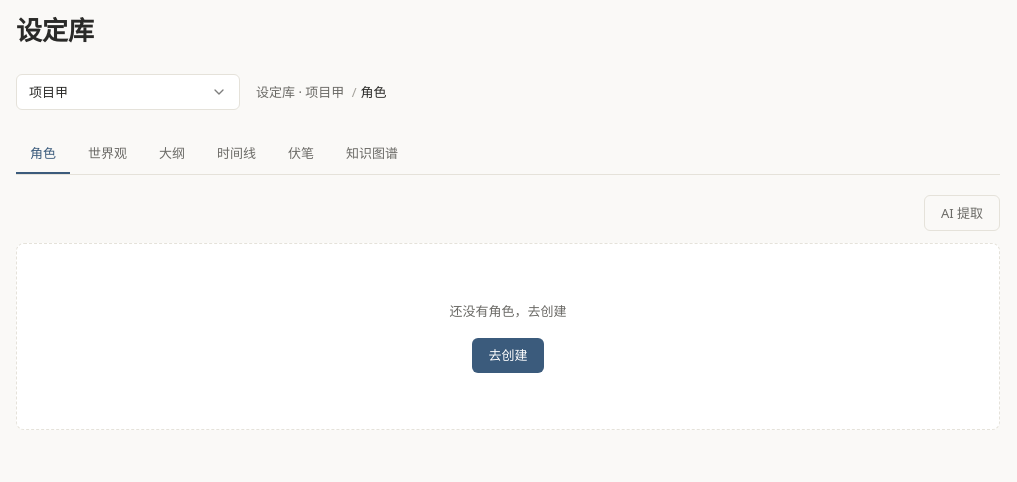
Test: 地图工作台修复契约（#973 快照刷新 / #978 删除钮重叠 / #979 pin 标签与点击） › K1【R】外部建图后点「地图视图」进工作台应见新图（进工作台重拉 maps，而非挂载时空快照）
What coordinates should you click on to do the following:
click the tab "世界观"
I would click on:
 (108, 154)
Its box is [74, 134, 141, 174].
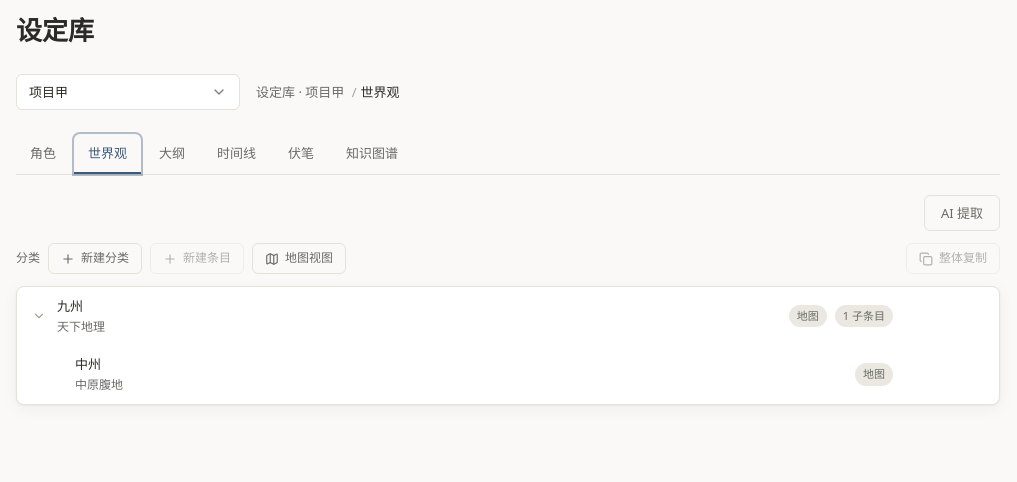
Result: the element with test id "library-list" is shown at [16, 286, 1000, 405]
What coordinates should you click on to do the following:
click the button with test id "map-view-entry"
I would click on:
 (299, 259)
Its box is [252, 243, 346, 274].
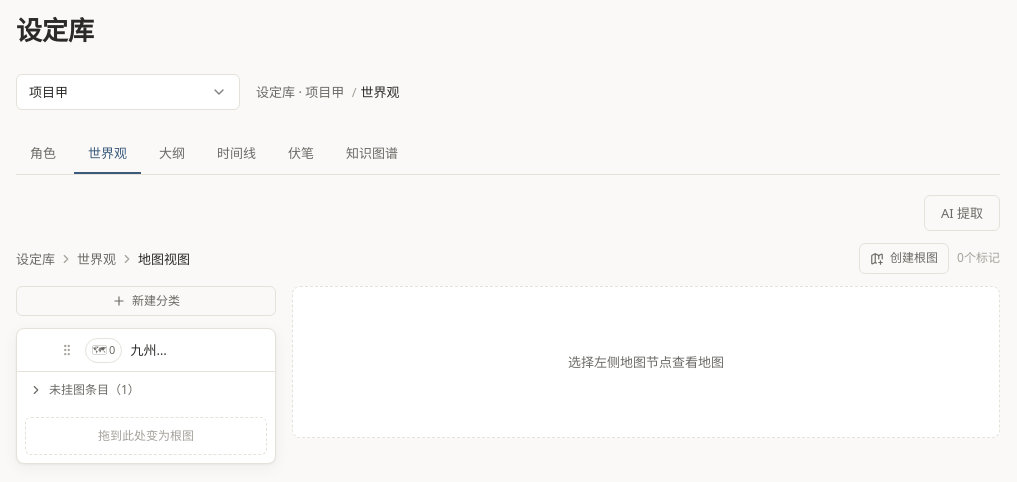
Result: the button with test id "world-map-badge-w1" is shown at [85, 338, 122, 362]
